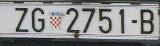-: (131, 19, 139, 24)
1: (118, 8, 126, 35)
2: (64, 8, 81, 34)
5: (99, 7, 113, 34)
7: (82, 7, 93, 33)
B: (141, 8, 156, 35)
G: (32, 8, 44, 33)
Z: (15, 7, 30, 32)
